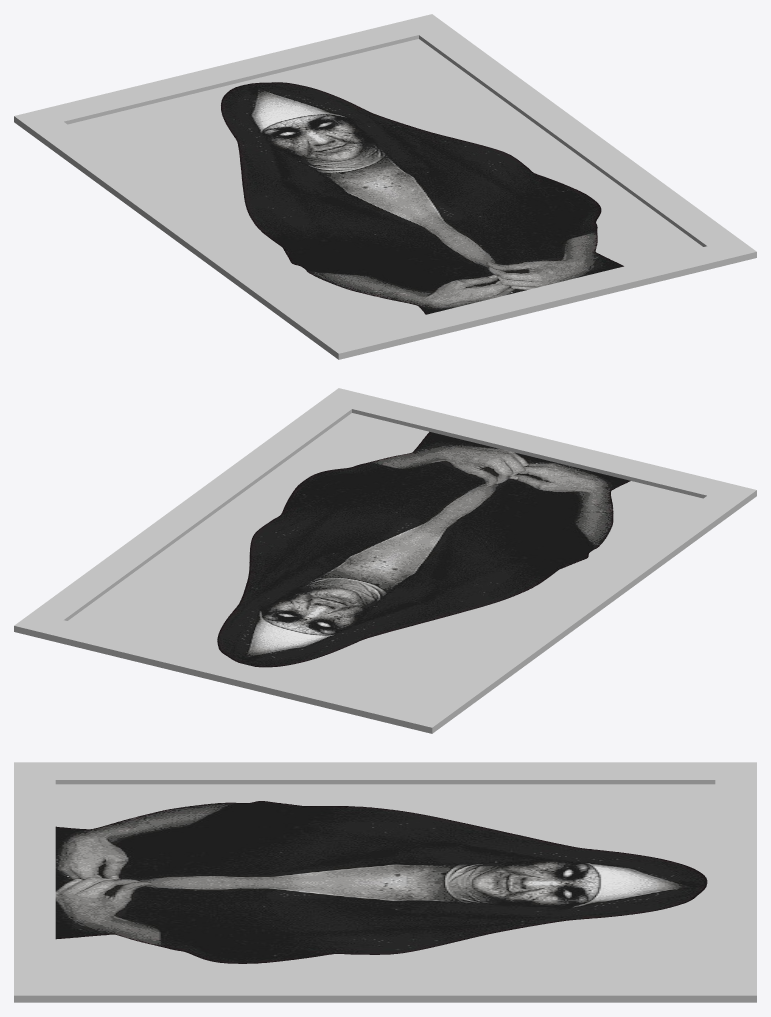
Rendered from cadres5.fbx.
3 renders of one model, top to bottom at view 1: azimuth 30°, elevation 25°; view 2: azimuth 150°, elevation 25°; view 3: azimuth 270°, elevation 25°, orthographic. The views are drawn at different scales.
Parts seen in each view (by area): view 1: cadre_5; view 2: cadre_5; view 3: cadre_5.
Part boxes in pixels (x1,y1,x2,y2): cadre_5: (14, 14, 756, 359); cadre_5: (14, 388, 756, 733); cadre_5: (14, 762, 756, 1002).
Size of the model in its own units: 2608 by 36.69 by 3508.
2 materials, 1 textured.
